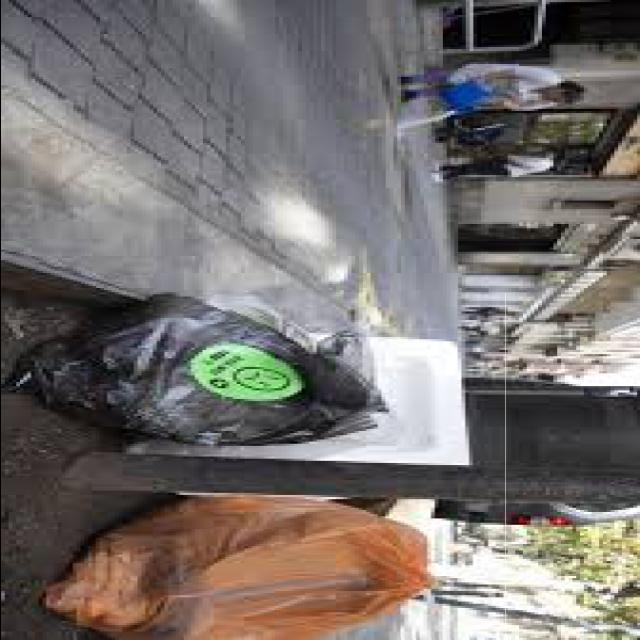Trashbag: (0, 286, 396, 444)
